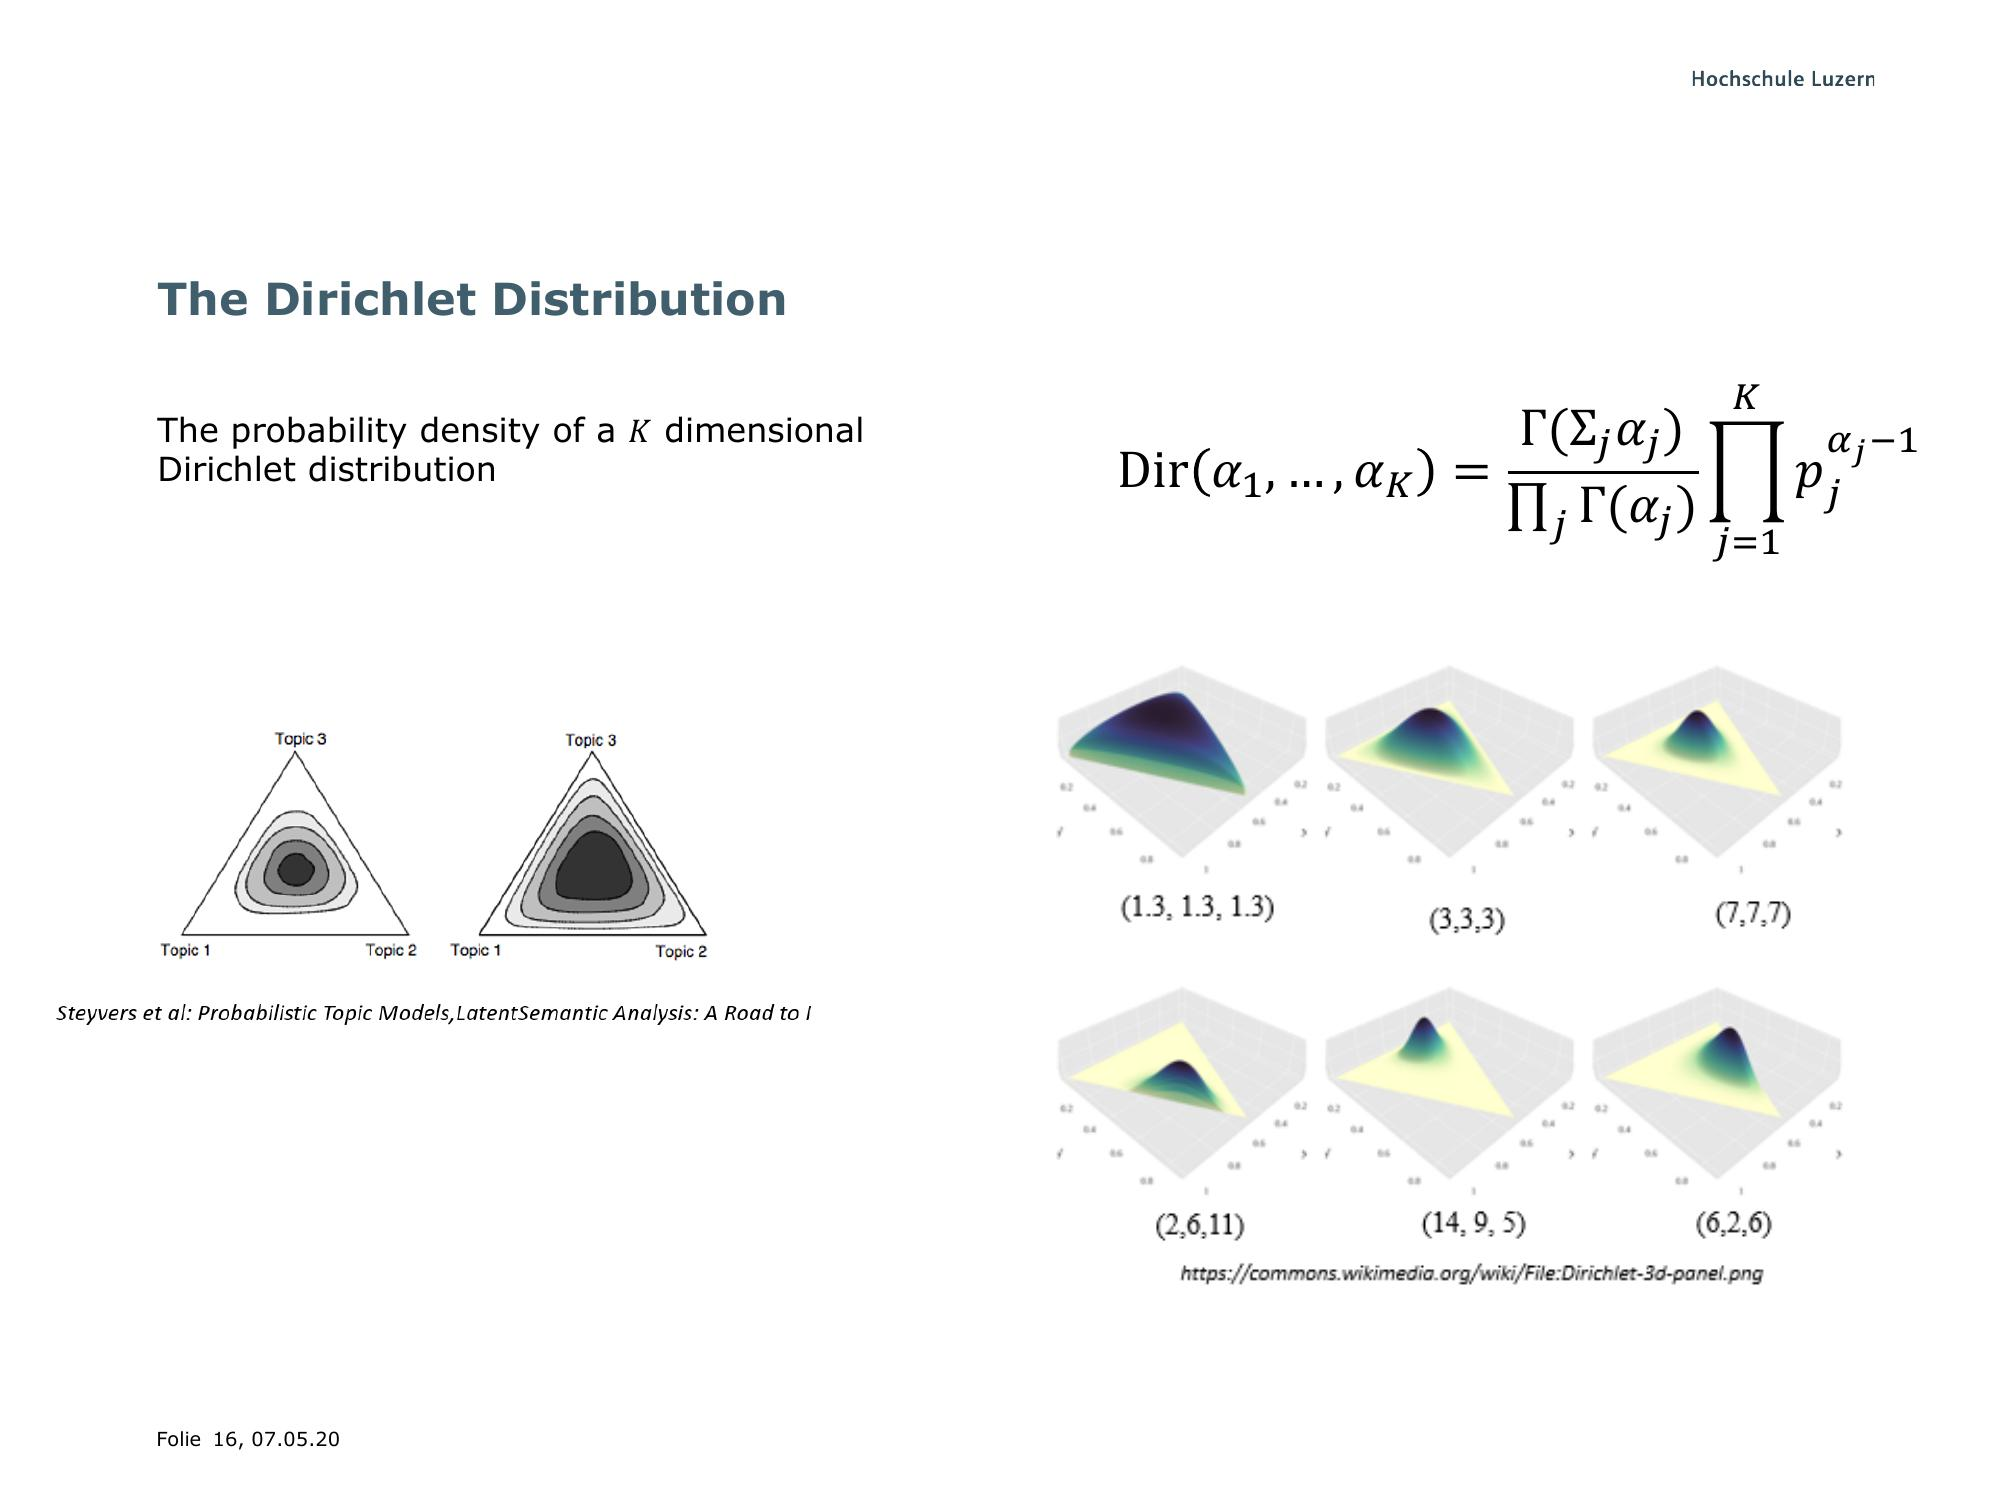Title: (146, 265, 798, 342)
